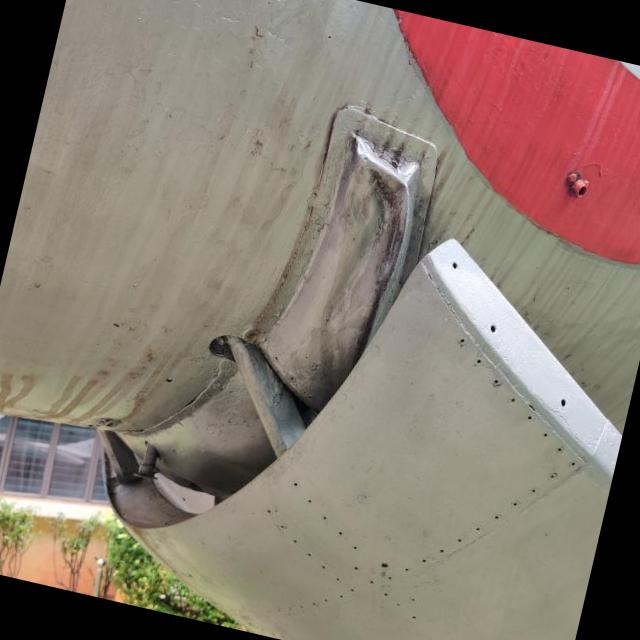Dent: (262, 105, 438, 377)
